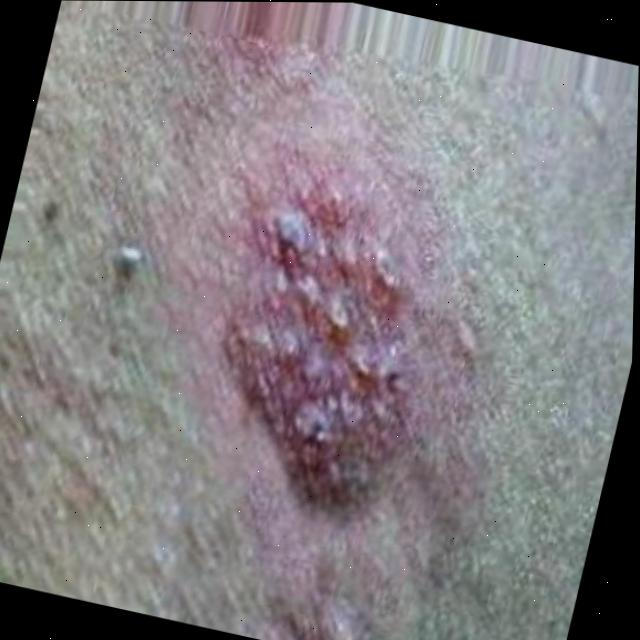Shingles: (179, 170, 453, 537), (274, 600, 366, 640)
